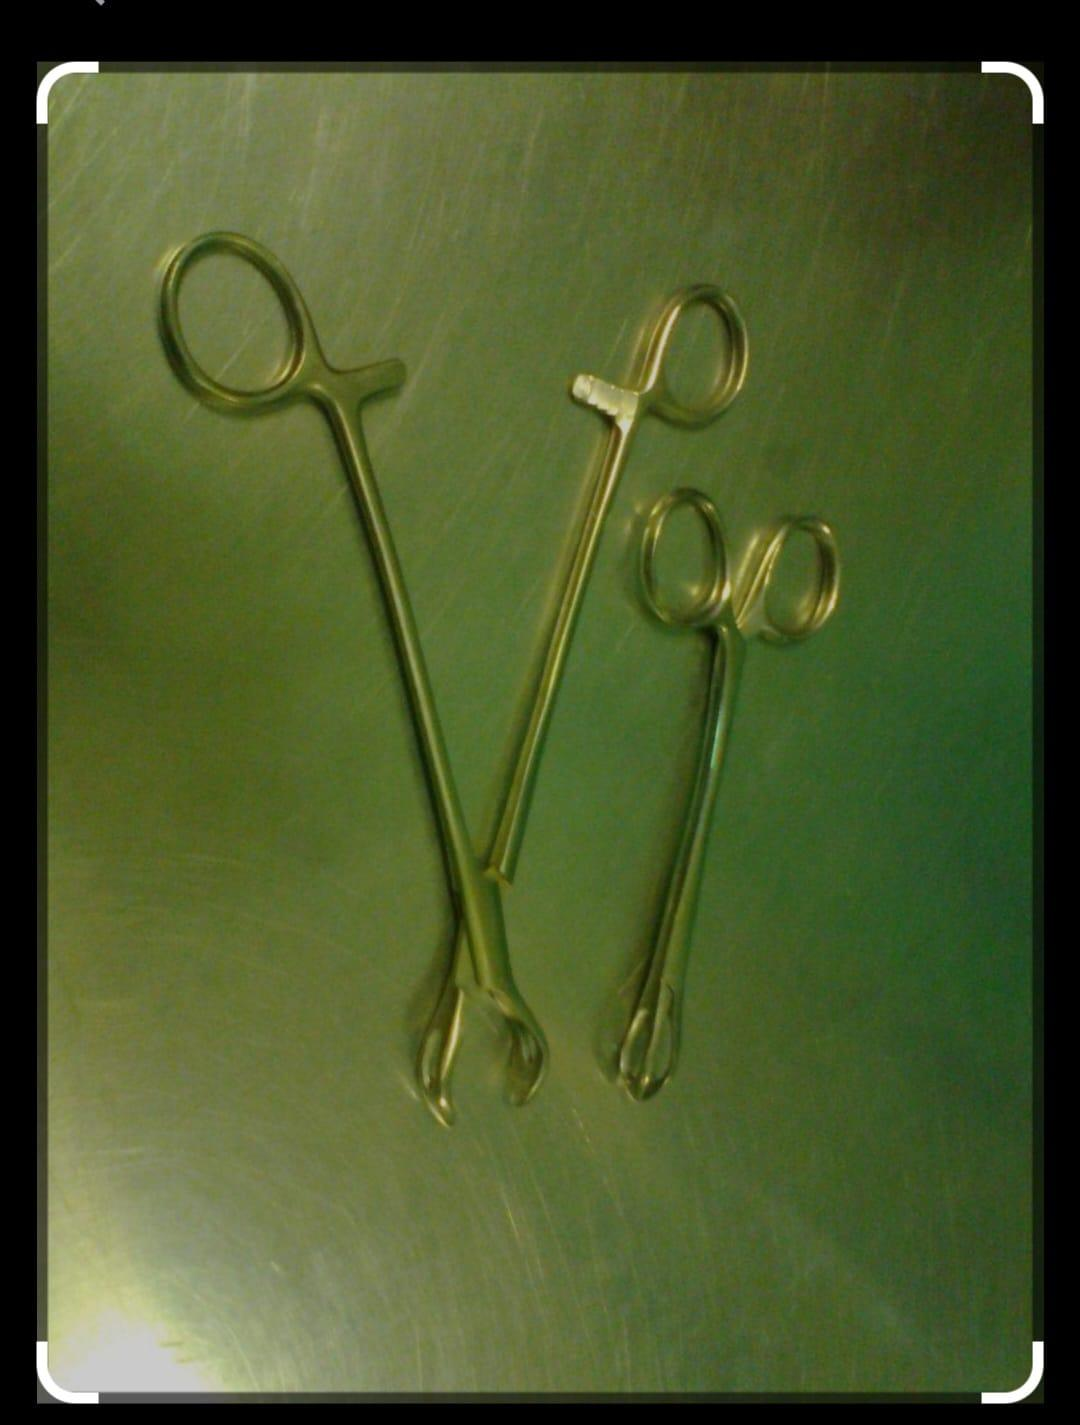Lane Tissue Forceps: (136, 200, 750, 1128), (587, 482, 900, 1108)
